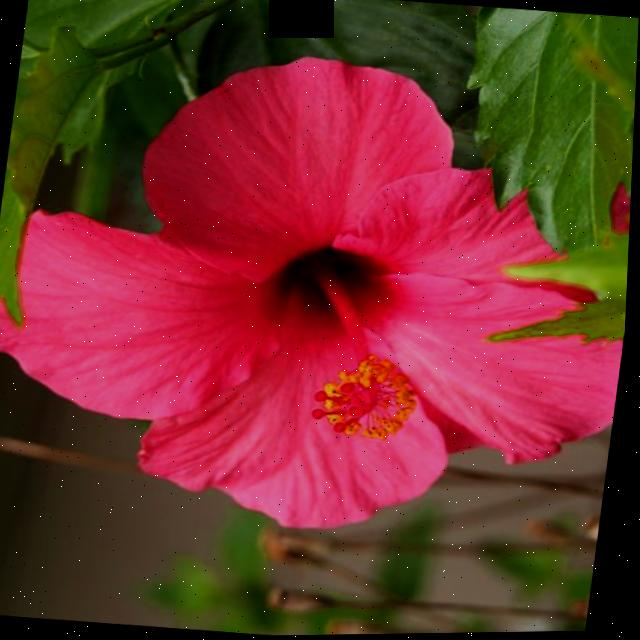hibiscus: (0, 0, 640, 581)
